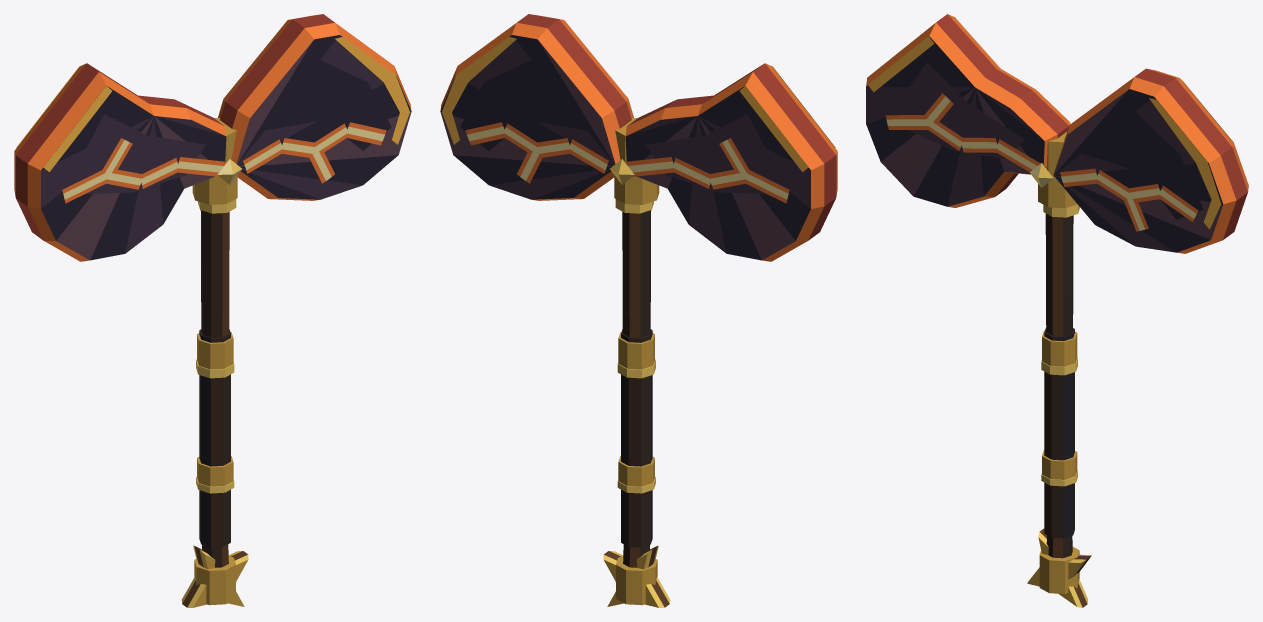
Rendered from lava_axe.obj.
3 views of the same model, side by side, from view 1: azimuth 30°, elevation 25°; view 2: azimuth 150°, elevation 25°; view 3: azimuth 330°, elevation 25° (orthographic). The views are drawn at different scales.
Parts seen in each view (by area): view 1: 05_Left_Blade, 06_Right_Blade, 07_Dark_Facets, 02_Grip, 01_Charred_Shaft, 09_Molten_Cracks, 03_Gold_Bands, 10_Hot_Crack_Cores, 04_Pommel, 08_Hot_Edges, 11_Center_Collar; view 2: 05_Left_Blade, 06_Right_Blade, 07_Dark_Facets, 02_Grip, 01_Charred_Shaft, 09_Molten_Cracks, 03_Gold_Bands, 10_Hot_Crack_Cores, 04_Pommel, 08_Hot_Edges, 11_Center_Collar; view 3: 05_Left_Blade, 06_Right_Blade, 07_Dark_Facets, 02_Grip, 01_Charred_Shaft, 09_Molten_Cracks, 03_Gold_Bands, 10_Hot_Crack_Cores, 04_Pommel, 08_Hot_Edges, 11_Center_Collar.
Part boxes in pixels (x1,y1,x2,y2): 05_Left_Blade: [14, 63, 226, 261]; 06_Right_Blade: [218, 14, 411, 200]; 07_Dark_Facets: [62, 58, 391, 194]; 02_Grip: [199, 329, 230, 547]; 01_Charred_Shaft: [200, 210, 229, 567]; 09_Molten_Cracks: [62, 122, 386, 203]; 03_Gold_Bands: [196, 199, 236, 493]; 10_Hot_Crack_Cores: [63, 126, 384, 199]; 04_Pommel: [181, 545, 248, 607]; 08_Hot_Edges: [16, 37, 409, 171]; 11_Center_Collar: [192, 118, 237, 204]; 05_Left_Blade: [625, 63, 837, 261]; 06_Right_Blade: [440, 14, 633, 200]; 07_Dark_Facets: [460, 58, 789, 194]; 02_Grip: [621, 329, 652, 547]; 01_Charred_Shaft: [622, 210, 651, 567]; 09_Molten_Cracks: [465, 122, 789, 203]; 03_Gold_Bands: [615, 199, 655, 493]; 10_Hot_Crack_Cores: [467, 126, 788, 199]; 04_Pommel: [603, 545, 670, 607]; 08_Hot_Edges: [442, 37, 835, 171]; 11_Center_Collar: [614, 118, 659, 204]; 05_Left_Blade: [866, 14, 1070, 207]; 06_Right_Blade: [1053, 68, 1248, 253]; 07_Dark_Facets: [886, 62, 1203, 219]; 02_Grip: [1044, 327, 1074, 538]; 01_Charred_Shaft: [1045, 213, 1073, 558]; 09_Molten_Cracks: [885, 93, 1198, 231]; 03_Gold_Bands: [1041, 204, 1079, 486]; 10_Hot_Crack_Cores: [886, 96, 1196, 230]; 04_Pommel: [1027, 528, 1091, 607]; 08_Hot_Edges: [868, 36, 1233, 229]; 11_Center_Collar: [1038, 131, 1077, 208].
Bounding box in the file's own units: 0.8242 × 1.18 × 0.15.
